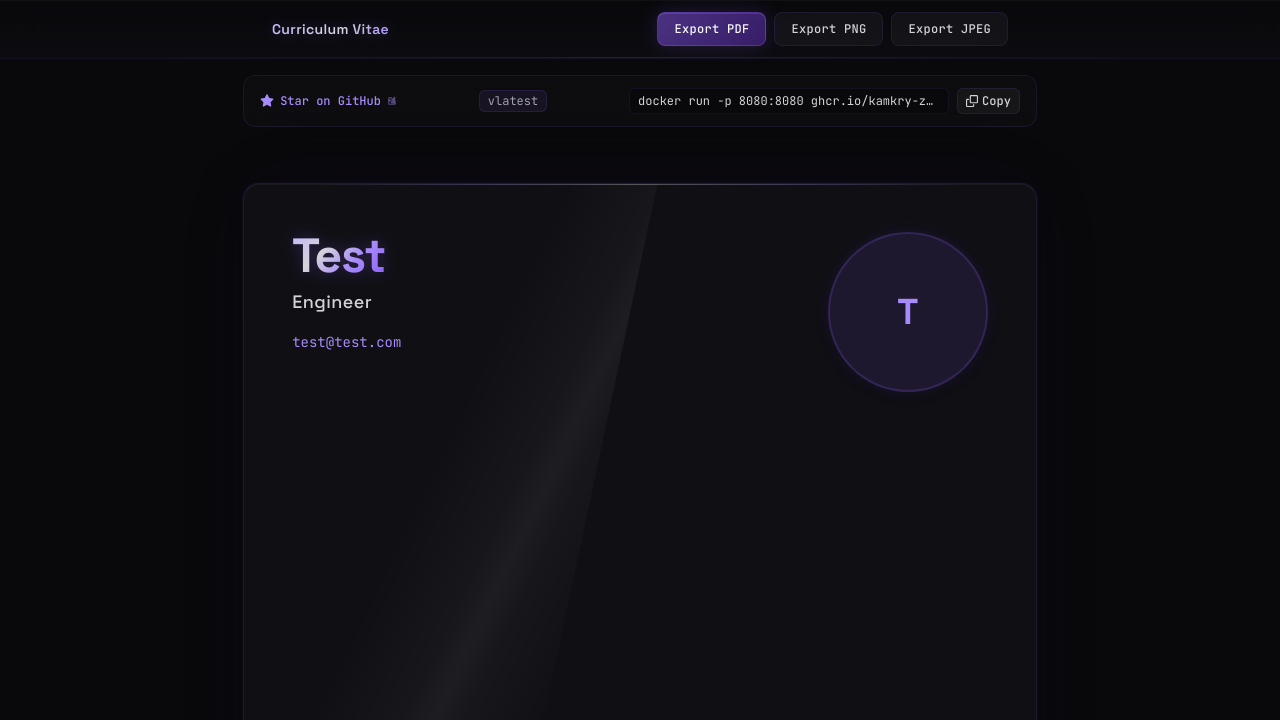
Test case: App › falls back to a generic error message when the error has no message
Click the button "Export PDF". click: [712, 29]
box: [658, 12, 766, 46]
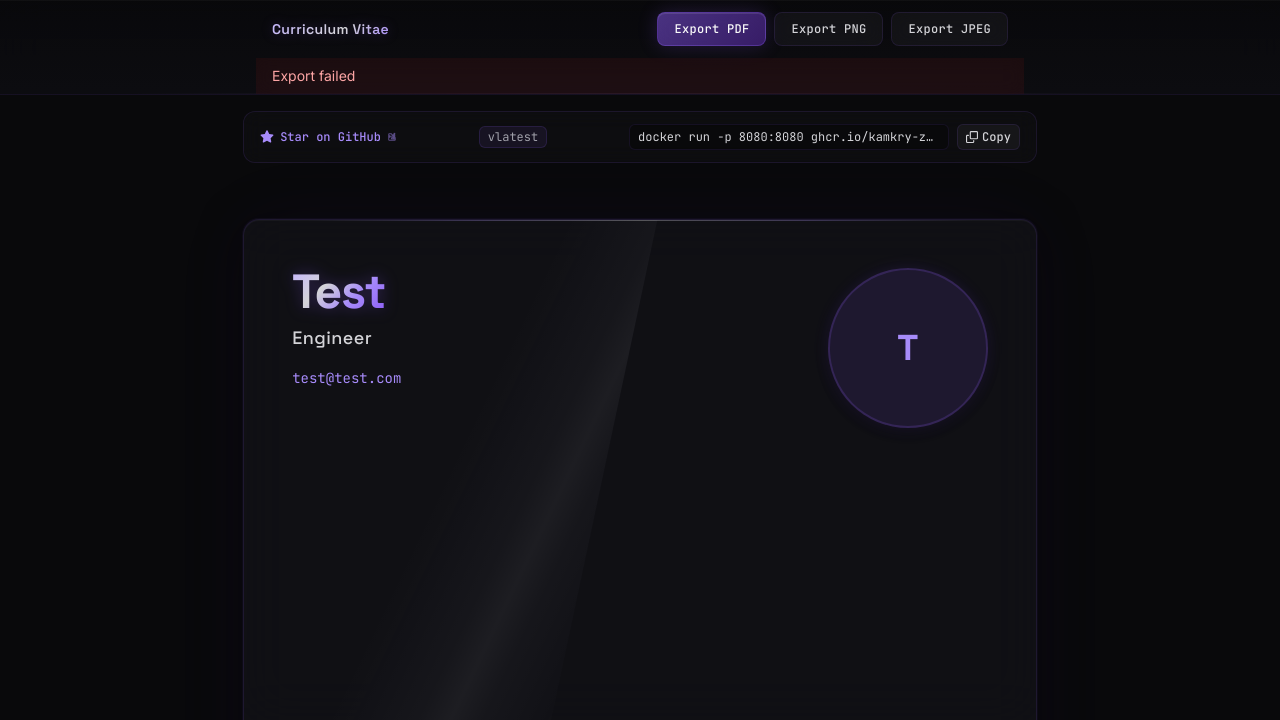
Expected: the text "Export failed" is shown, [256, 58, 1024, 94]
